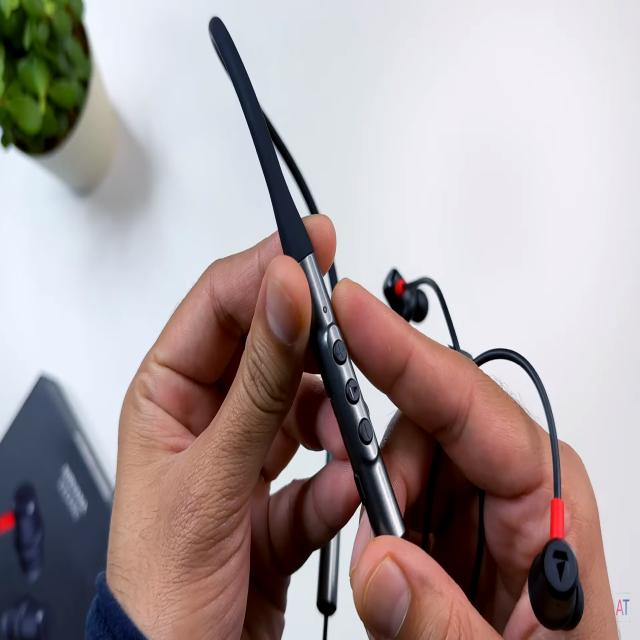Neckband: (208, 13, 584, 640)
